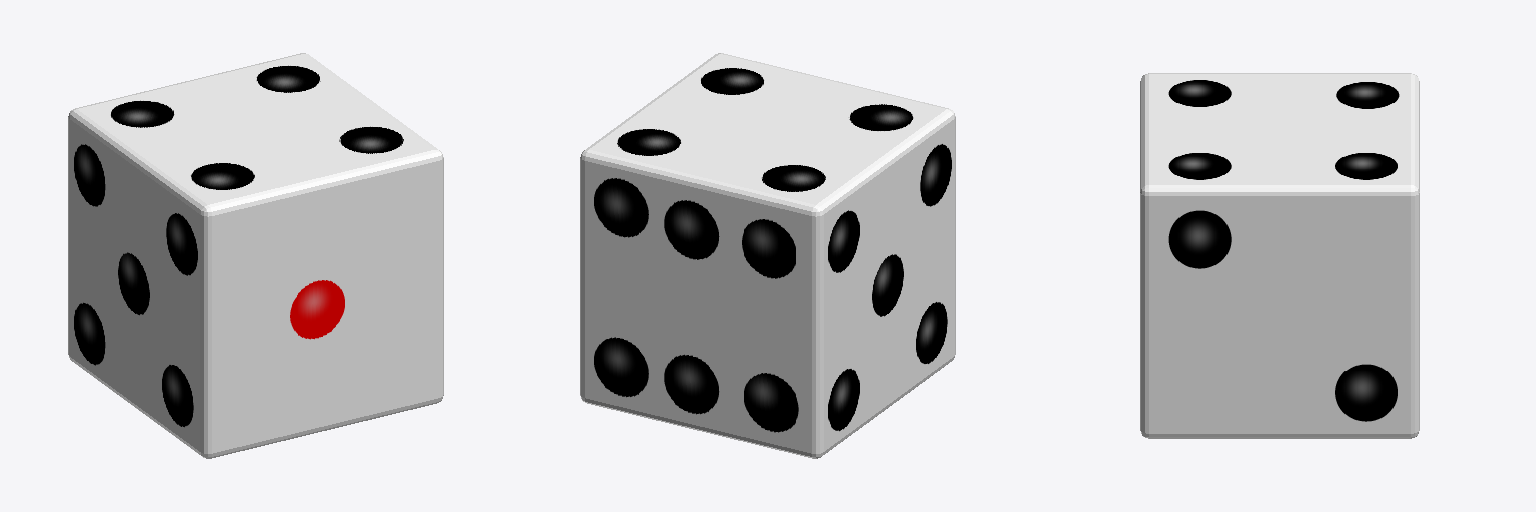
3 views of the same model, side by side, from view 1: azimuth 30°, elevation 25°; view 2: azimuth 150°, elevation 25°; view 3: azimuth 270°, elevation 25° (orthographic).
Parts seen in each view (by area): view 1: Dice; view 2: Dice; view 3: Dice.
Part boxes in pixels (x1,y1,x2,y2): Dice: (68,53,443,458); Dice: (580,53,955,458); Dice: (1140,73,1419,438).
Size of the model in its own units: 1 by 1 by 1.
Materials: 1 (1 with a texture image).